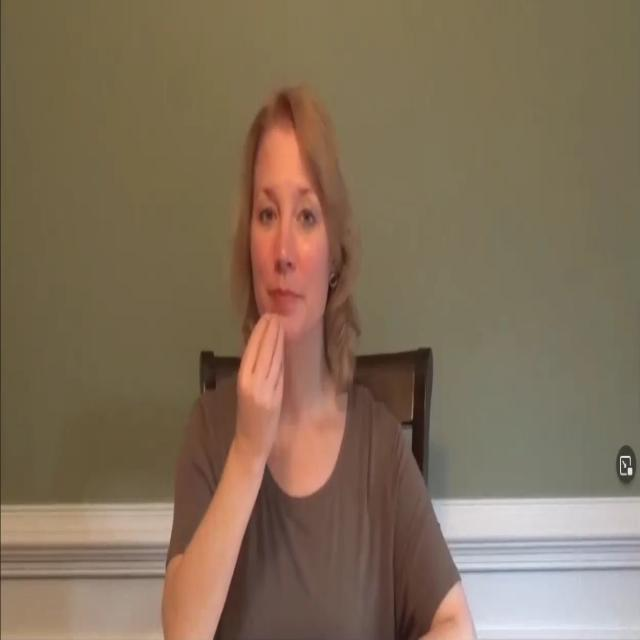Food: (158, 85, 478, 640)
